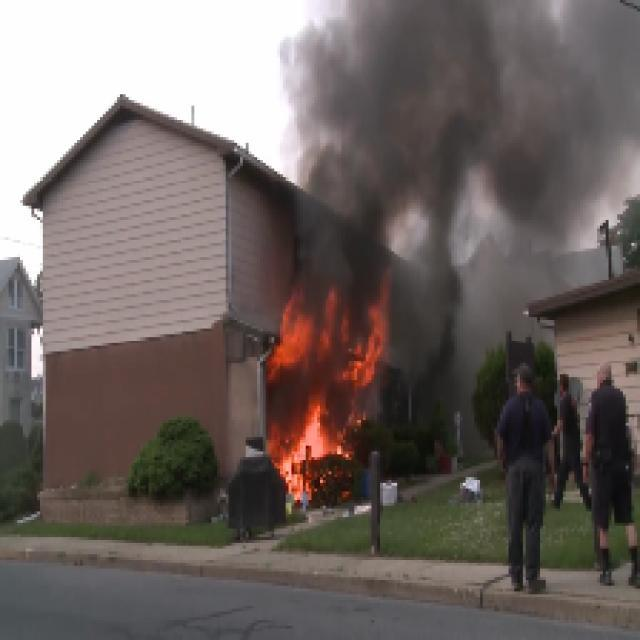Fire: (262, 272, 397, 518)
Smoke: (272, 14, 622, 234), (406, 245, 614, 338)
